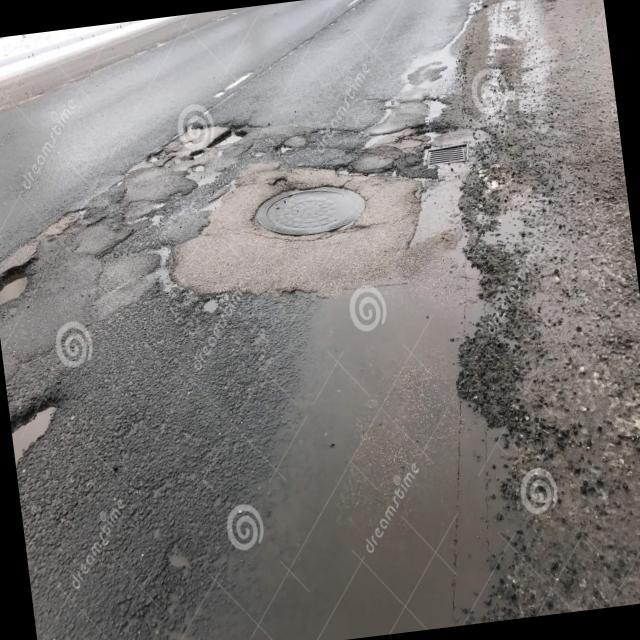Pothole: (218, 150, 587, 640), (6, 378, 95, 492), (372, 79, 466, 138), (180, 110, 264, 156), (0, 255, 56, 305)
